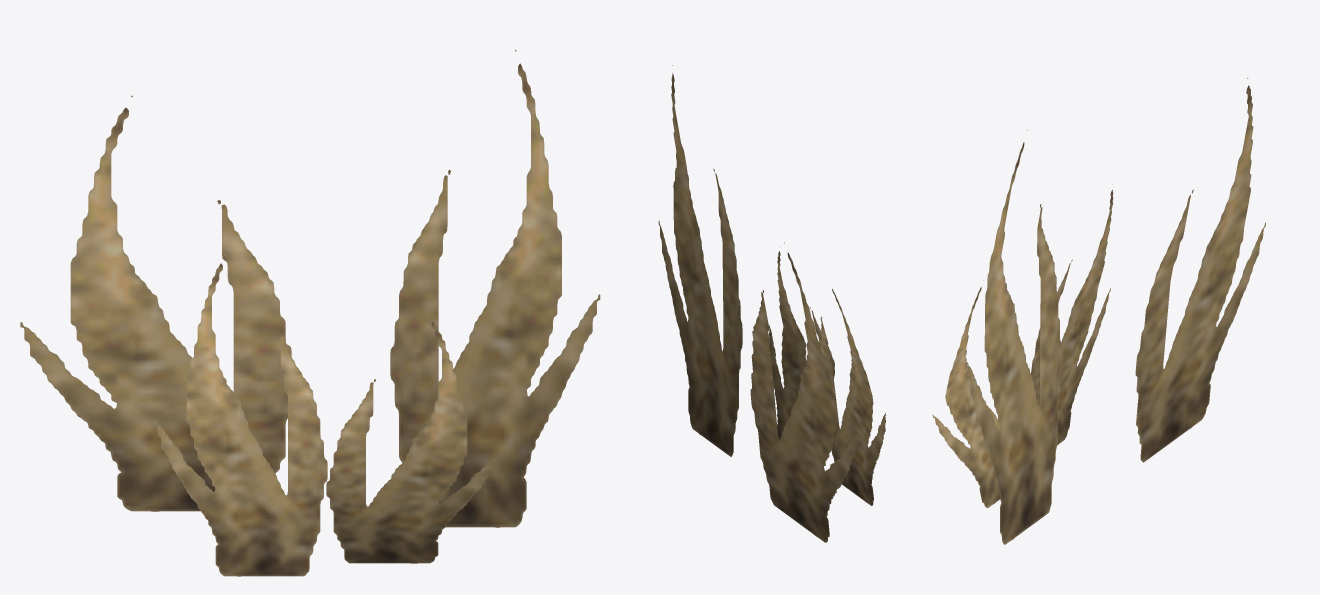
File: swsm_cao1.fbx
3 views of the same model, side by side, from view 1: azimuth 30°, elevation 25°; view 2: azimuth 150°, elevation 25°; view 3: azimuth 270°, elevation 25° (orthographic). The views are drawn at different scales.
Visible parts, largest first — view 1: swsm_cao1; view 2: swsm_cao1; view 3: swsm_cao1.
Part boxes in pixels (bbox=[...]): swsm_cao1: bbox=[20, 49, 600, 576]; swsm_cao1: bbox=[658, 65, 886, 542]; swsm_cao1: bbox=[932, 78, 1265, 544].
Bounding box in the file's own units: 245 × 270 × 198.
